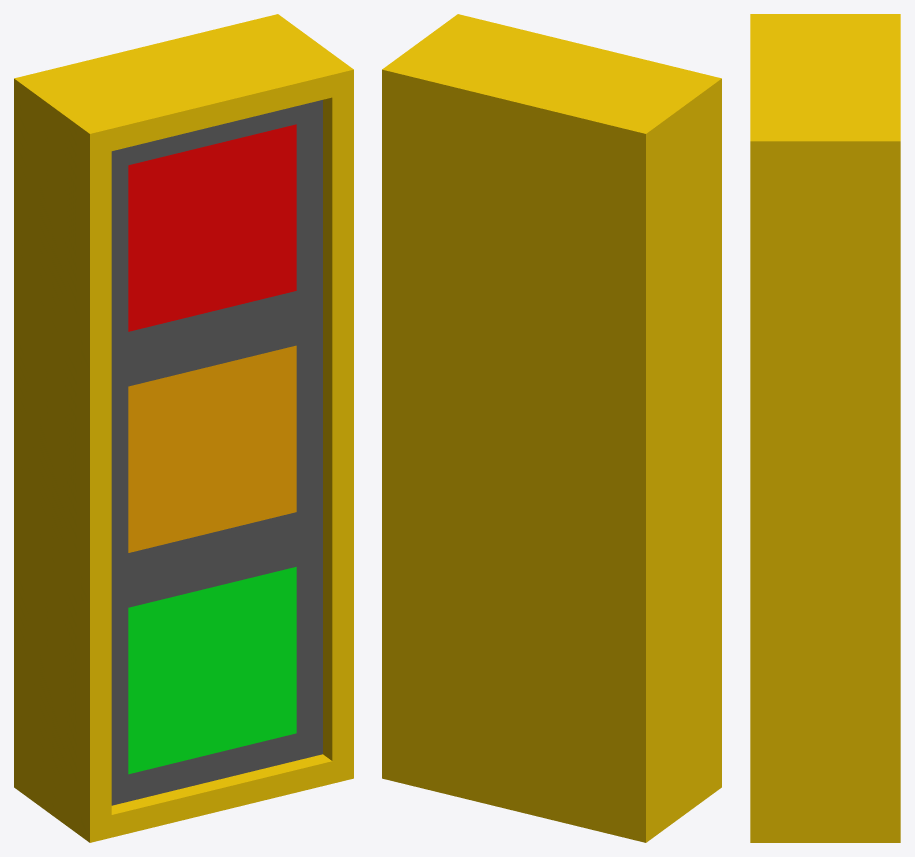
The model's file is Traffic_Light.fbx.
3 views of the same model, side by side, from view 1: azimuth 30°, elevation 25°; view 2: azimuth 150°, elevation 25°; view 3: azimuth 270°, elevation 25° (orthographic).
Visible parts, largest first — view 1: Traffic Light; view 2: Traffic Light; view 3: Traffic Light.
Boxes of the visible parts, bbox=[...] form: Traffic Light: bbox=[14, 14, 353, 842]; Traffic Light: bbox=[382, 14, 721, 842]; Traffic Light: bbox=[750, 14, 900, 842].
Size of the model in its own units: 0.3 by 0.7697 by 0.1494.
